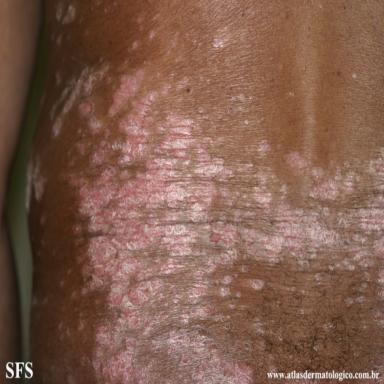Psoriasis: (66, 70, 384, 384), (49, 65, 108, 138), (26, 157, 47, 212), (285, 154, 307, 177), (211, 26, 231, 51), (55, 3, 75, 24), (241, 279, 264, 291), (79, 100, 94, 117), (257, 140, 271, 157)
